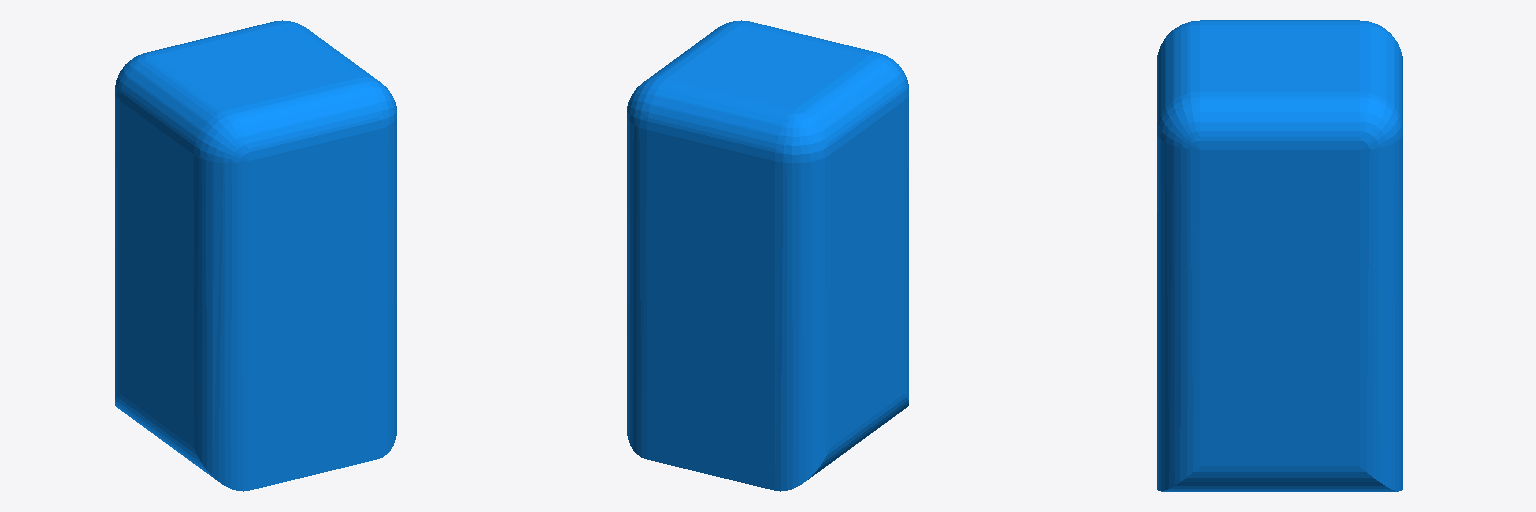
URDF robot description (cube.urdf):
<?xml version="1.0" ?>
<robot name="cube.urdf">
  <link name="baseLink">
    <contact>
    	<friction_anchor/>
    	   <lateral_friction value="0.5"/>
        <rolling_friction value="0.005"/>
        <spinning_friction value="0.005"/>
    </contact>
    <inertial>
      <origin rpy="0 0 0" xyz="0 0 0"/>
       <mass value="0.2"/>
       <inertia ixx="0.01" ixy="0" ixz="0" iyy="0.01" iyz="0" izz="0.01"/>
    </inertial>
    <visual>
      <origin rpy="0 0 0" xyz="0 0 0"/>
      <geometry>
				<mesh filename="square.obj" scale="1 1 1"/>
      </geometry>
       <material name="white">
        <color rgba="0.1 0.6 1 1"/>
      </material>
    </visual>
    <collision>
      <origin rpy="0 0 0" xyz="0 0 0 "/>
      <geometry>
				<mesh filename="square.obj" scale="1 1 1"/>
      </geometry>
    </collision>
  </link>
</robot>

--- Facts derived from the render (not from the file) ---
3 views of the same robot in one strip: view 1: azimuth 30°, elevation 25°; view 2: azimuth 150°, elevation 25°; view 3: azimuth 270°, elevation 25° (orthographic).
Robot: cube.urdf — 1 links, 0 joints (none); root link baseLink; default pose: every joint at zero.
Links seen in each view (by area): view 1: baseLink; view 2: baseLink; view 3: baseLink.
Boxes of the visible links, x1=… form: baseLink: x1=115, y1=20, x2=396, y2=491; baseLink: x1=627, y1=20, x2=908, y2=491; baseLink: x1=1157, y1=20, x2=1402, y2=491.
Size in the robot's own frame: 0.0057 by 0.0057 by 0.01 metres.
Meshes: 1 distinct files referenced, 1 mesh visuals loaded (1 OBJ).